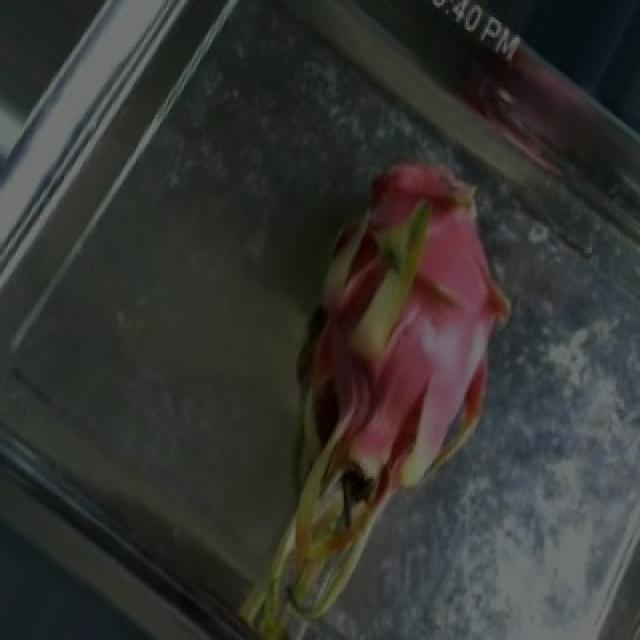fruit: (180, 99, 608, 561)
